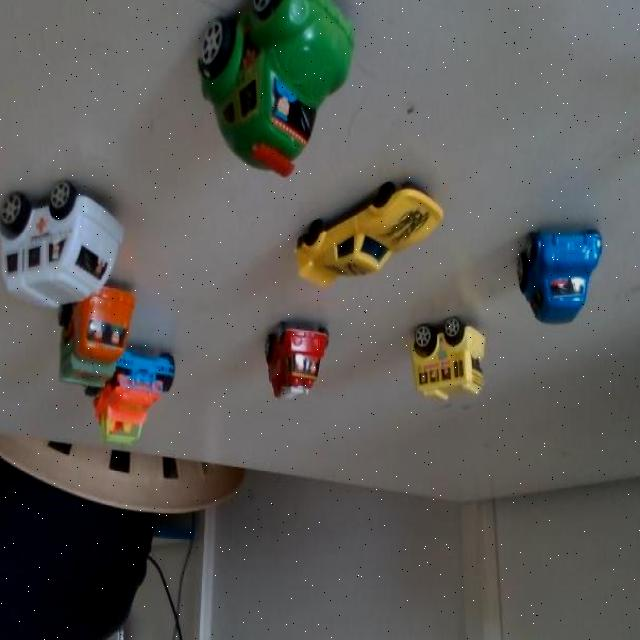car: (194, 0, 365, 176), (0, 157, 139, 333), (302, 174, 435, 297), (402, 304, 490, 406), (100, 348, 183, 453), (62, 278, 130, 397), (255, 307, 330, 413), (525, 226, 602, 325)
